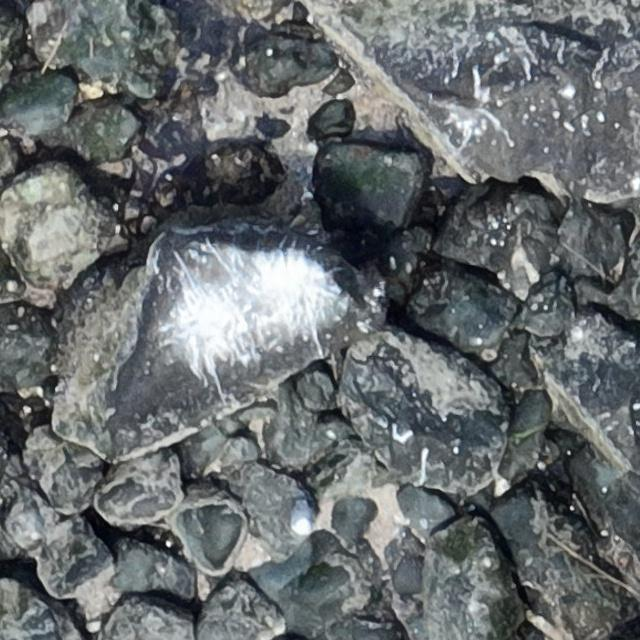umineko: (290, 496, 310, 536)
